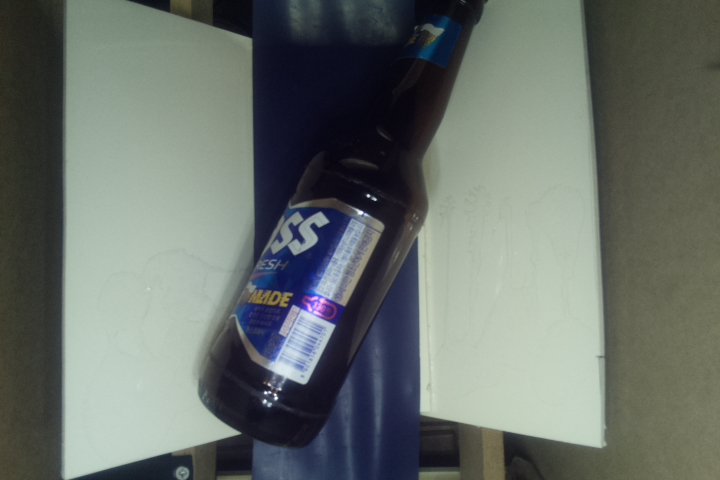makju: (195, 1, 491, 447)
